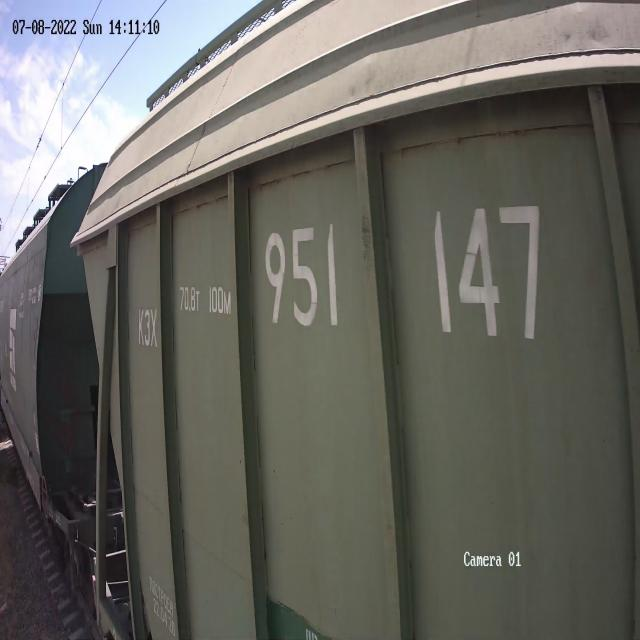hopper: (68, 0, 640, 640), (0, 150, 113, 554)
